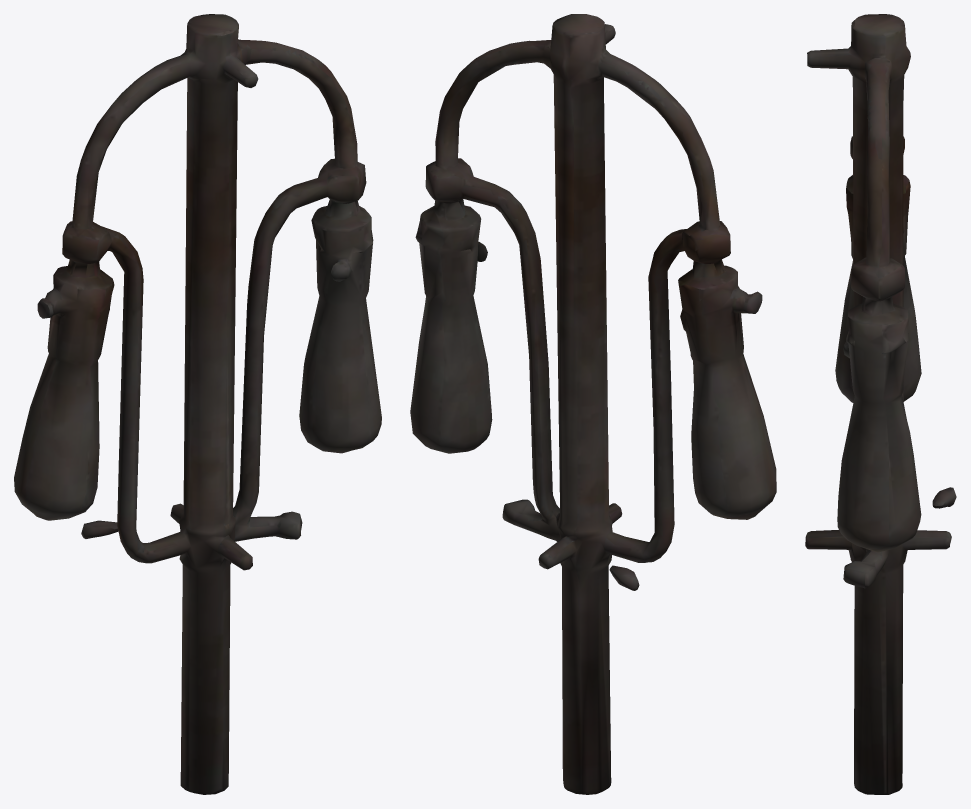
File: simple-iron-wall-torch-v001.glb
3 views of the same model, side by side, from view 1: azimuth 30°, elevation 25°; view 2: azimuth 150°, elevation 25°; view 3: azimuth 270°, elevation 25° (orthographic).
Visible parts, largest first — view 1: simple-iron-wall-torch; view 2: simple-iron-wall-torch; view 3: simple-iron-wall-torch.
Boxes of the visible parts, x1,y1,x2,y2 form: simple-iron-wall-torch: (14, 14, 381, 794); simple-iron-wall-torch: (410, 14, 776, 794); simple-iron-wall-torch: (805, 14, 956, 794).
Size of the model in its own units: 0.3779 by 0.7693 by 0.1375.
Materials: 1 (1 with a texture image).
